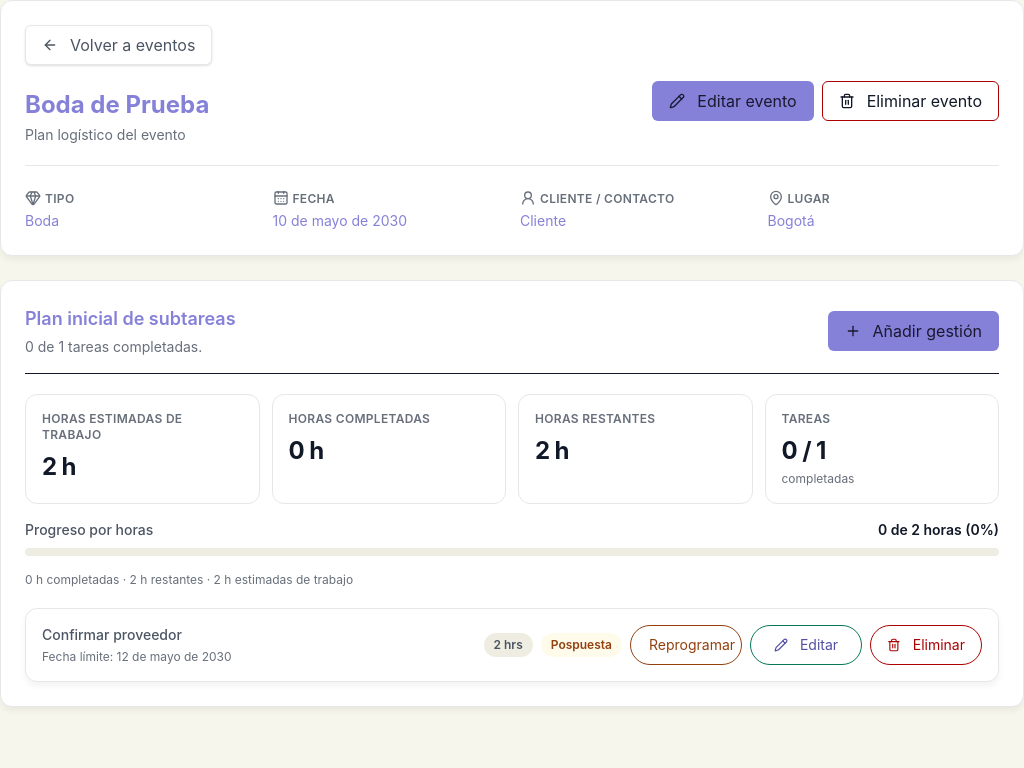
Test case: la primera acción de una gestión depende de su estado › la pospuesta abre el ReprogramarModal al pulsar Reprogramar
The width and height of the screenshot is (1024, 768).
Click the button "Reprogramar".
click(686, 645)  # box [630,625,742,665]
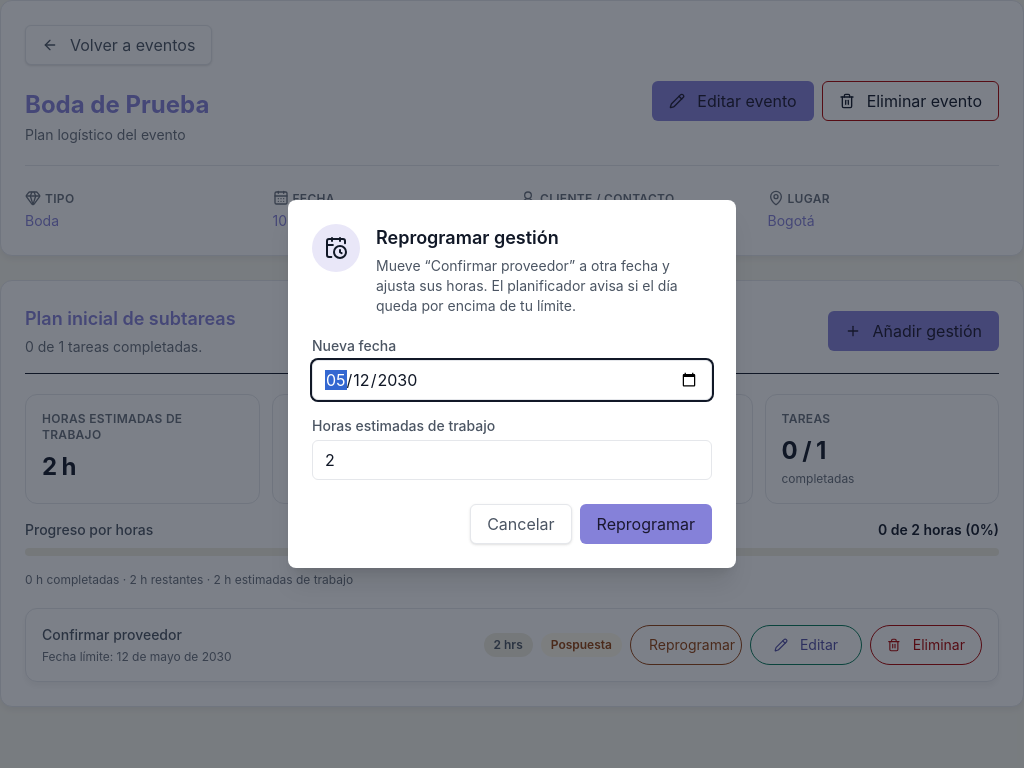
Expected: the dialog is shown, [288,200,736,568]
